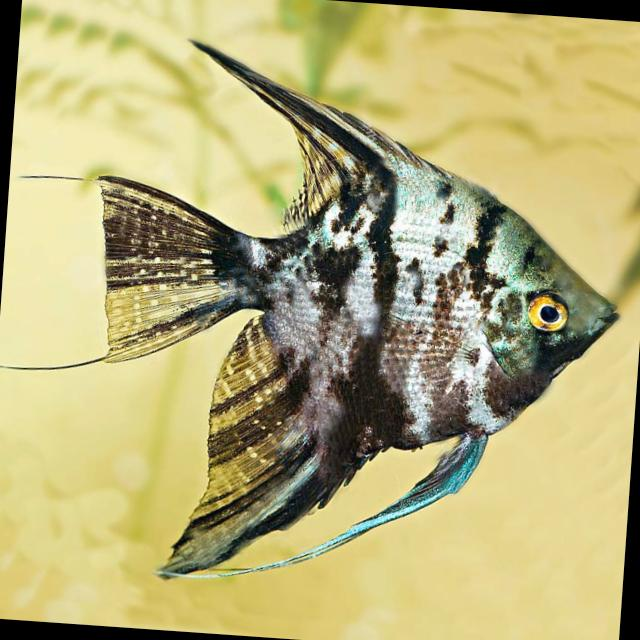AngelFish: (0, 27, 639, 625)
